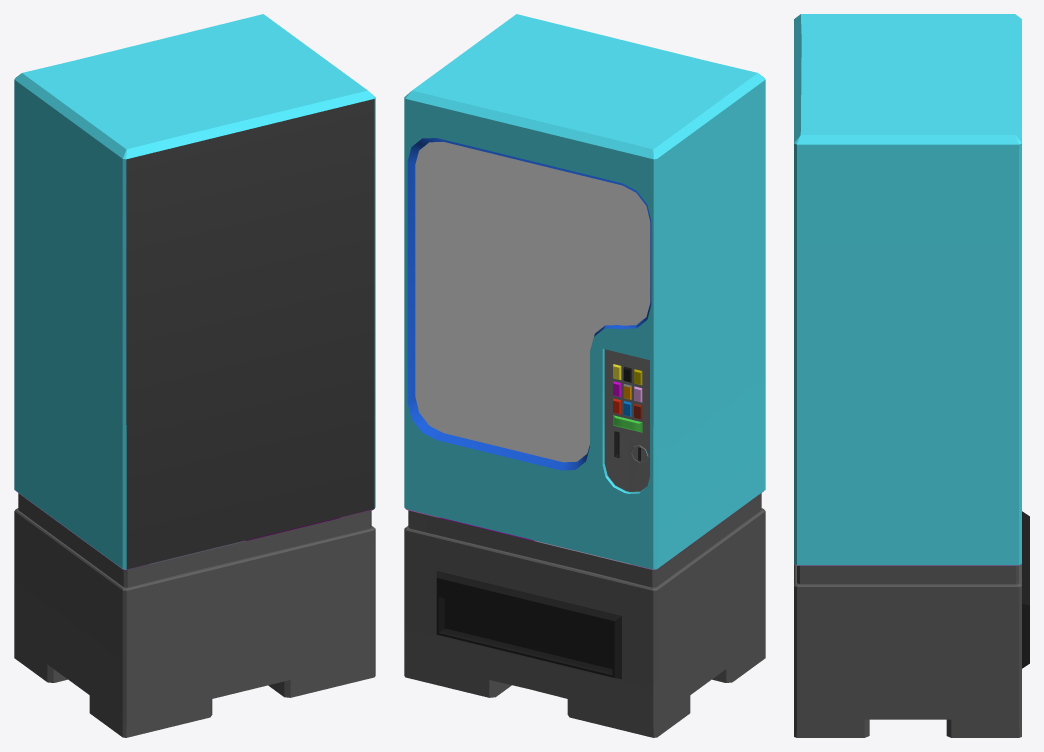
File: CAFETERIAvendingmachine.fbx
3 views of the same model, side by side, from view 1: azimuth 30°, elevation 25°; view 2: azimuth 150°, elevation 25°; view 3: azimuth 270°, elevation 25° (orthographic). The views are drawn at different scales.
Parts seen in each view (by area): view 1: Cube; view 2: Cube, Cube.013; view 3: Cube.
Boxes of the visible parts, box(x1,y1,x2,y2) form: Cube: box(14, 14, 375, 737); Cube: box(404, 14, 765, 737); Cube.013: box(415, 142, 650, 462); Cube: box(794, 14, 1029, 737).
Bounding box in the file's own units: 113 × 250 × 89.15.
3 materials, 2 textured.
